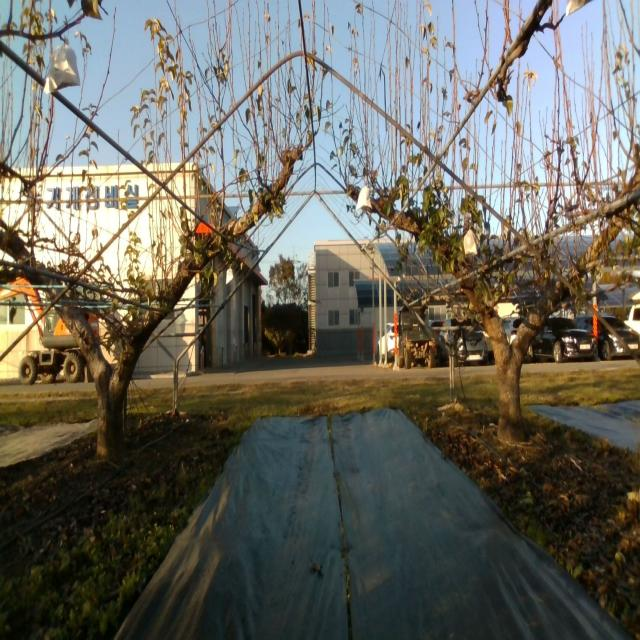pearbags: (43, 36, 81, 95), (463, 226, 479, 260), (356, 185, 372, 213)
